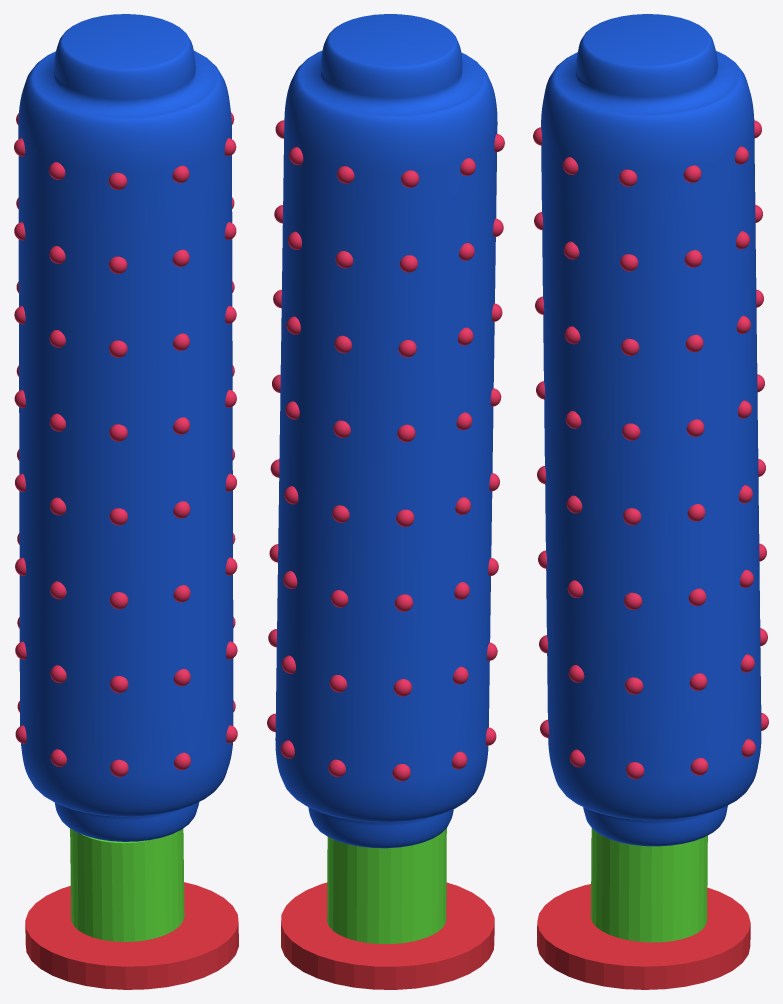
The picture shows the model from 3 angles, left to right: view 1: azimuth 30°, elevation 25°; view 2: azimuth 150°, elevation 25°; view 3: azimuth 270°, elevation 25°; orthographic projection.
Parts seen in each view (by area): view 1: Cylinder, Cylinder.002, Cylinder.001; view 2: Cylinder, Cylinder.002, Cylinder.001; view 3: Cylinder, Cylinder.002, Cylinder.001.
Boxes of the visible parts, bbox=[...] form: Cylinder: bbox=[14, 14, 237, 841]; Cylinder.002: bbox=[25, 882, 238, 989]; Cylinder.001: bbox=[70, 828, 184, 941]; Cylinder: bbox=[267, 14, 504, 848]; Cylinder.002: bbox=[281, 882, 494, 989]; Cylinder.001: bbox=[327, 828, 446, 943]; Cylinder: bbox=[533, 14, 768, 846]; Cylinder.002: bbox=[537, 884, 750, 989]; Cylinder.001: bbox=[591, 828, 707, 942].
Bounding box in the file's own units: 216 × 935 × 221.
